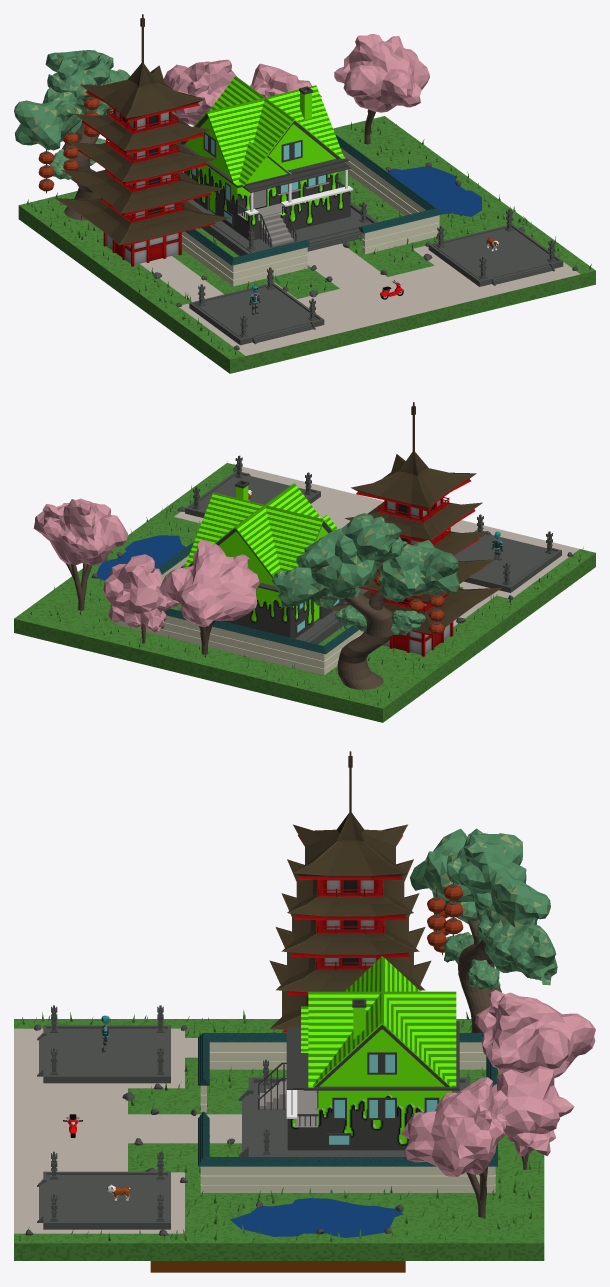
The picture shows the model from 3 angles, top to bottom: view 1: azimuth 30°, elevation 25°; view 2: azimuth 150°, elevation 25°; view 3: azimuth 270°, elevation 25°; orthographic projection. The views are drawn at different scales.
Parts seen in each view (by area): view 1: Cube.005, Cube.754; view 2: Cube.005, Cube.754; view 3: Cube.005, Cube.754, UNDERGROUND_ART_PIECE_VAN_GOGH.
Boxes of the visible parts, x1=… form: Cube.005: x1=14, y1=14, x2=595, y2=373; Cube.754: x1=178, y1=76, x2=353, y2=247; Cube.005: x1=14, y1=402, x2=595, y2=722; Cube.754: x1=181, y1=480, x2=345, y2=638; Cube.005: x1=14, y1=751, x2=595, y2=1260; Cube.754: x1=258, y1=956, x2=459, y2=1150; UNDERGROUND_ART_PIECE_VAN_GOGH: x1=150, y1=1261, x2=405, y2=1272.
Size of the model in its own units: 4528 by 2816 by 4389.
Materials: 43 (7 with a texture image).
